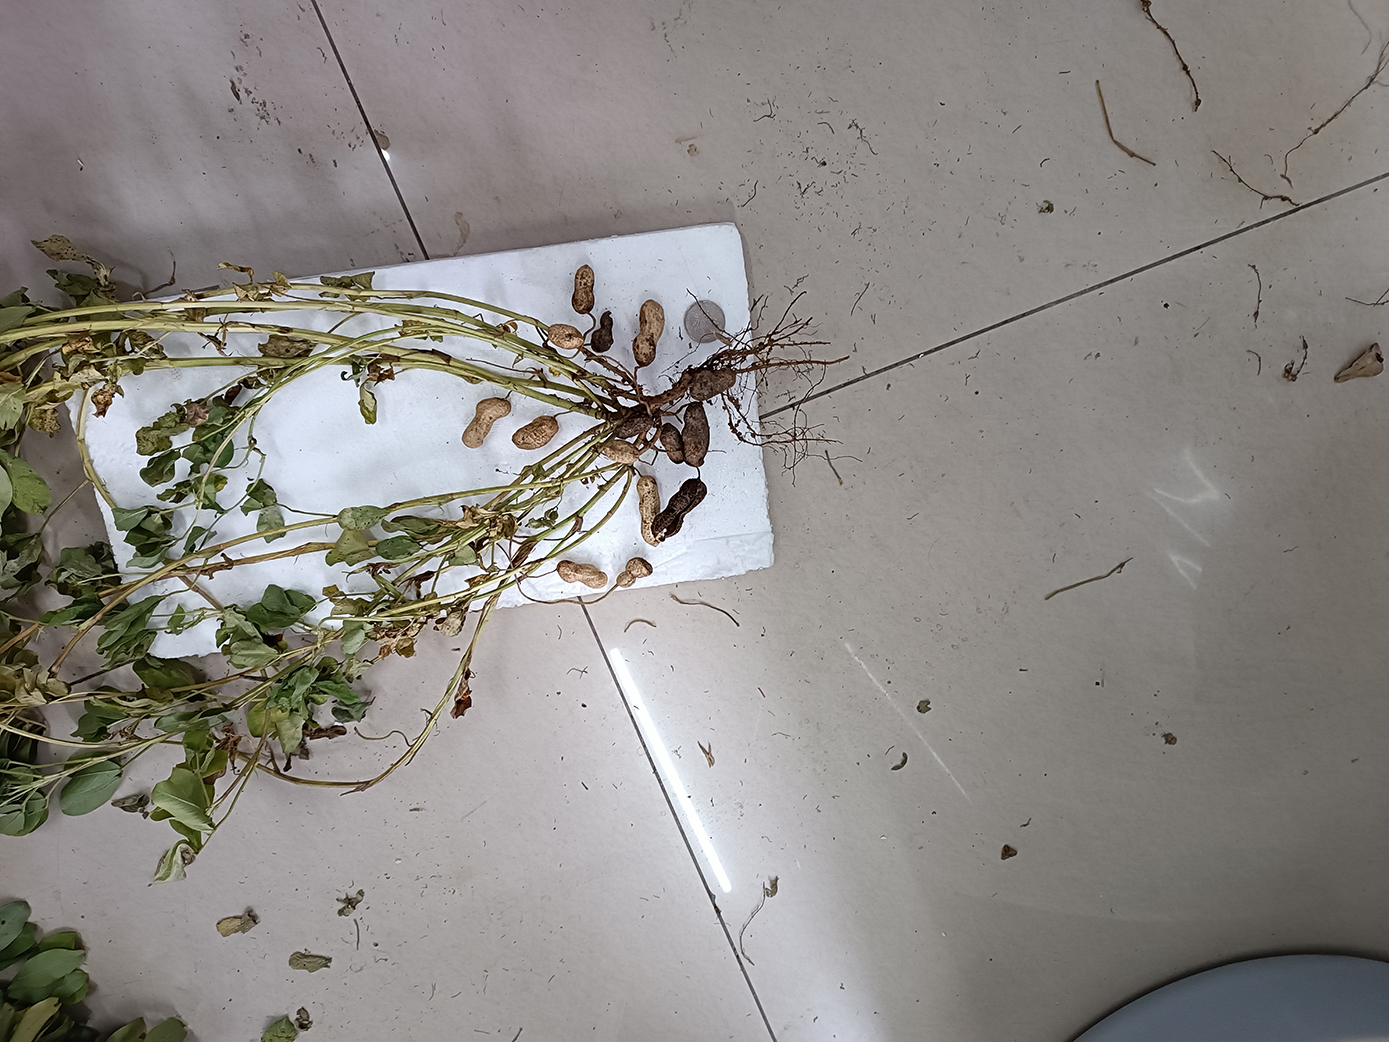h: (462, 396, 511, 447), (637, 475, 661, 548), (511, 415, 559, 450), (556, 560, 607, 589), (571, 262, 595, 314), (616, 556, 652, 589), (548, 323, 583, 350), (606, 441, 639, 463)
l: (653, 475, 707, 541), (633, 300, 665, 368), (683, 403, 710, 467), (690, 368, 736, 400), (659, 422, 684, 465), (590, 310, 614, 352)
